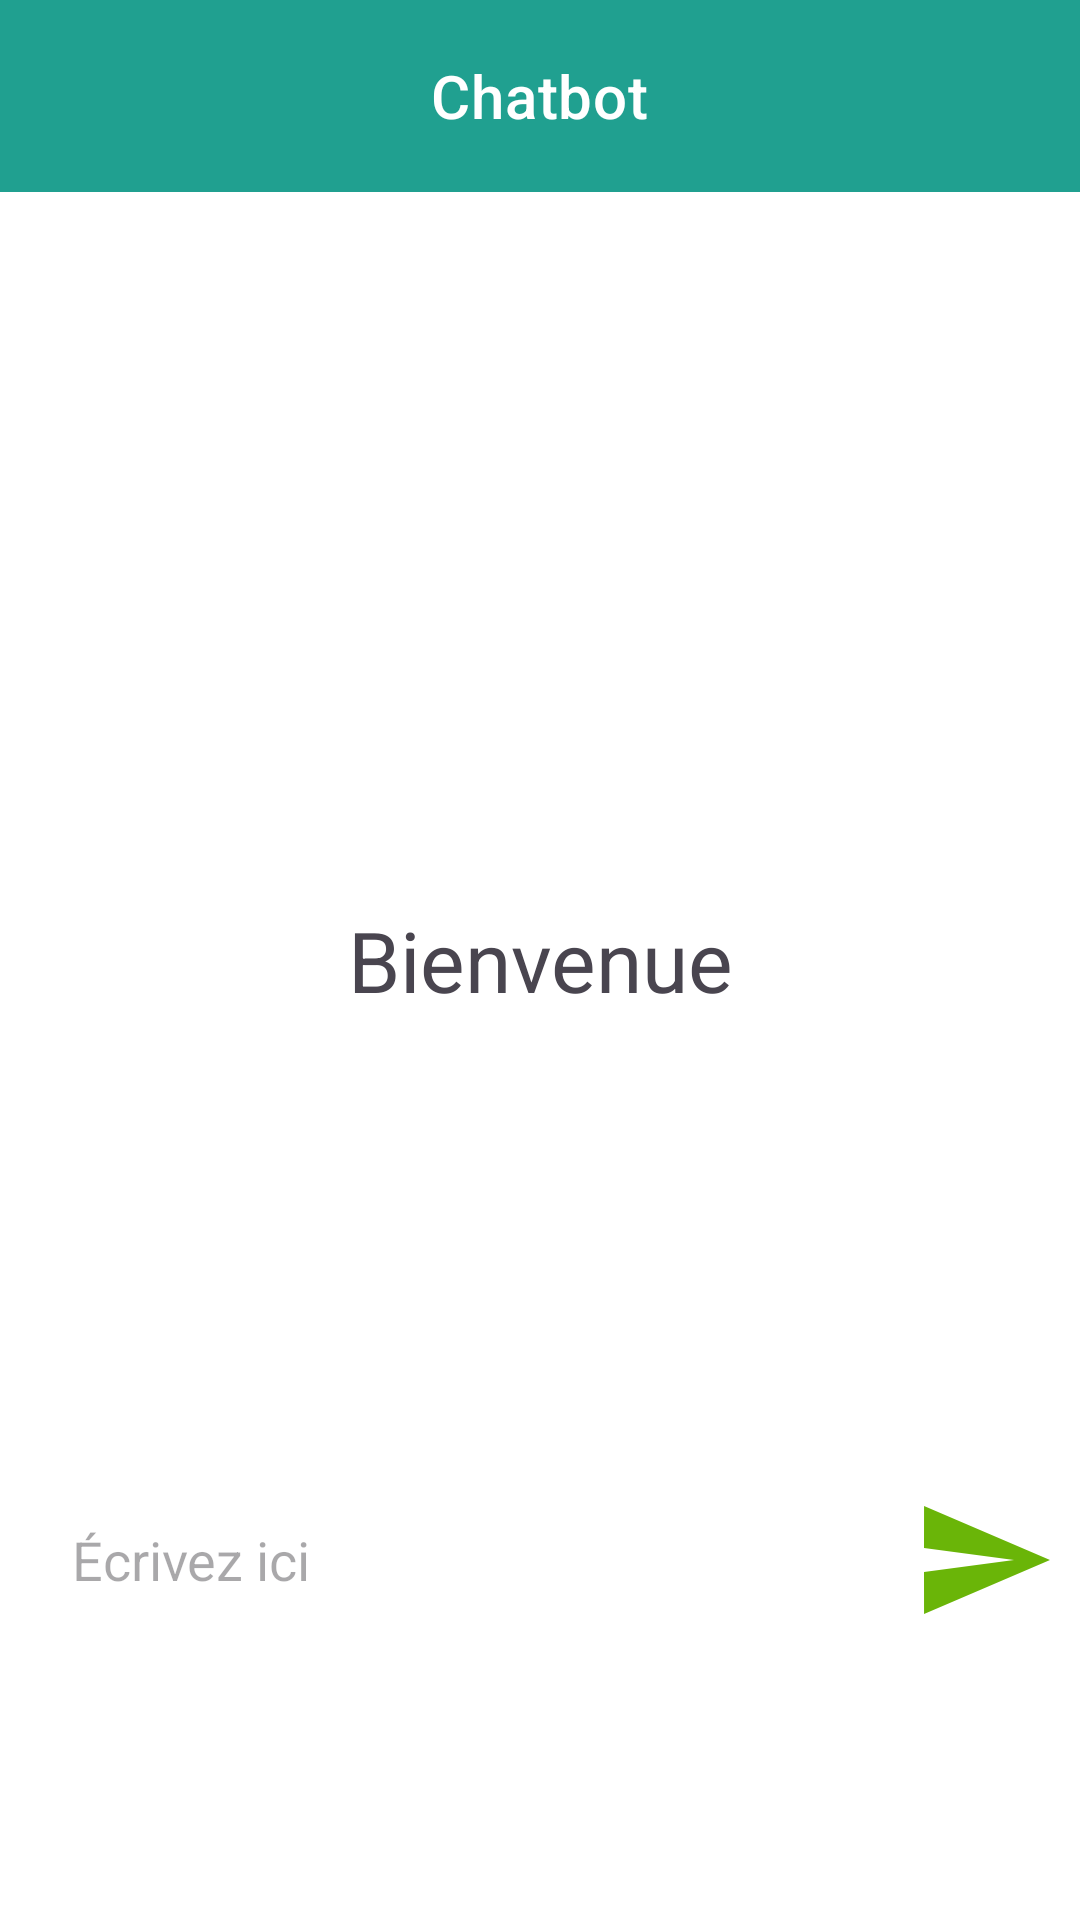

Where icons sit on this 1080 x 1920 app screen, as (x1, y1, x2, y2):
send: (924, 1506, 1050, 1614)
